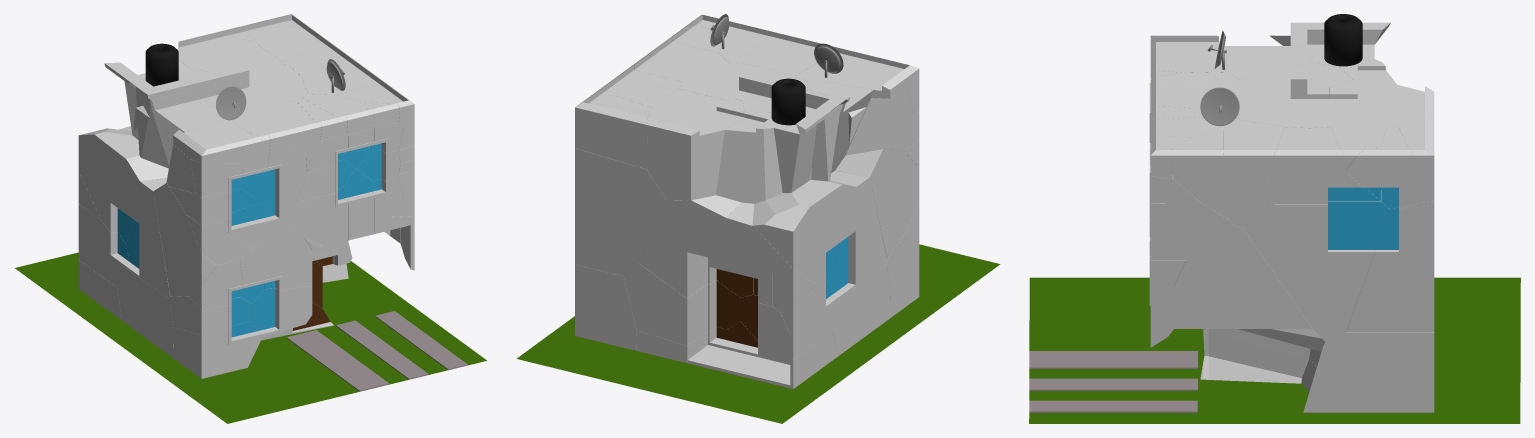
File: casa_2_cracked.glb
The picture shows the model from 3 angles, left to right: view 1: azimuth 30°, elevation 25°; view 2: azimuth 150°, elevation 25°; view 3: azimuth 270°, elevation 25°; orthographic projection. The views are drawn at different scales.
Parts seen in each view (by area): view 1: Terreno_Infonativ_mod_0.001, Casa_Infonavit_mode_1_cell.060, Casa_Infonavit_mode_1_cell.029, Casa_Infonavit_mode_1_cell.083, Casa_Infonavit_mode_1_cell.039, Casa_Infonavit_mode_1_cell.081, Casa_Infonavit_mode_1_cell.097, Casa_Infonavit_mode_1_cell.047, Casa_Infonavit_mode_1_cell.077, Casa_Infonavit_mode_1_cell.038, Casa_Infonavit_mode_1_cell.086, Casa_Infonavit_mode_1_cell.050 (+43 smaller); view 2: Terreno_Infonativ_mod_0.001, Casa_Infonavit_mode_1_cell.069, Casa_Infonavit_mode_1_cell.047, Casa_Infonavit_mode_1_cell.098, Casa_Infonavit_mode_1_cell.060, Casa_Infonavit_mode_1_cell.093, Casa_Infonavit_mode_1_cell.035, Casa_Infonavit_mode_1_cell.029, Casa_Infonavit_mode_1_cell.081, Casa_Infonavit_mode_1_cell.061, Casa_Infonavit_mode_1_cell.057, Casa_Infonavit_mode_1_cell.097 (+34 smaller); view 3: Terreno_Infonativ_mod_0.001, Casa_Infonavit_mode_1_cell.063, Casa_Infonavit_mode_1_cell.061, Casa_Infonavit_mode_1_cell.080, Casa_Infonavit_mode_1_cell.069, Casa_Infonavit_mode_1_cell.095, Casa_Infonavit_mode_1_cell.047, Casa_Infonavit_mode_1_cell.038, Casa_Infonavit_mode_1_cell.044, Casa_Infonavit_mode_1_cell.052, Casa_Infonavit_mode_1_cell.077, Casa_Infonavit_mode_1_cell.033 (+27 smaller).
Part boxes in pixels (box(x1,y1,x2,y2)): Terreno_Infonativ_mod_0.001: box(15, 252, 486, 423); Casa_Infonavit_mode_1_cell.060: box(78, 128, 168, 243); Casa_Infonavit_mode_1_cell.029: box(153, 183, 216, 296); Casa_Infonavit_mode_1_cell.083: box(173, 321, 262, 378); Casa_Infonavit_mode_1_cell.039: box(231, 111, 306, 220); Casa_Infonavit_mode_1_cell.081: box(122, 178, 170, 299); Casa_Infonavit_mode_1_cell.097: box(117, 265, 173, 358); Casa_Infonavit_mode_1_cell.047: box(178, 30, 282, 72); Casa_Infonavit_mode_1_cell.077: box(173, 119, 262, 163); Casa_Infonavit_mode_1_cell.038: box(219, 63, 308, 111); Casa_Infonavit_mode_1_cell.086: box(283, 188, 348, 246); Casa_Infonavit_mode_1_cell.050: box(78, 204, 128, 287); Terreno_Infonativ_mod_0.001: box(516, 244, 1000, 423); Casa_Infonavit_mode_1_cell.069: box(575, 148, 665, 276); Casa_Infonavit_mode_1_cell.047: box(647, 88, 744, 200); Casa_Infonavit_mode_1_cell.098: box(639, 195, 753, 298); Casa_Infonavit_mode_1_cell.060: box(752, 180, 856, 284); Casa_Infonavit_mode_1_cell.093: box(624, 263, 740, 345); Casa_Infonavit_mode_1_cell.035: box(716, 112, 782, 203); Casa_Infonavit_mode_1_cell.029: box(835, 148, 919, 258); Casa_Infonavit_mode_1_cell.081: box(827, 170, 886, 298); Casa_Infonavit_mode_1_cell.061: box(575, 264, 636, 350); Casa_Infonavit_mode_1_cell.057: box(575, 98, 649, 169); Casa_Infonavit_mode_1_cell.097: box(832, 264, 890, 356); Terreno_Infonativ_mod_0.001: box(1029, 277, 1520, 423); Casa_Infonavit_mode_1_cell.063: box(1243, 190, 1389, 341); Casa_Infonavit_mode_1_cell.061: box(1303, 332, 1434, 412); Casa_Infonavit_mode_1_cell.080: box(1174, 226, 1312, 328); Casa_Infonavit_mode_1_cell.069: box(1346, 201, 1434, 332); Casa_Infonavit_mode_1_cell.095: box(1223, 120, 1284, 228); Casa_Infonavit_mode_1_cell.047: box(1328, 80, 1434, 127); Casa_Infonavit_mode_1_cell.038: box(1233, 64, 1329, 128); Casa_Infonavit_mode_1_cell.044: box(1172, 131, 1229, 219); Casa_Infonavit_mode_1_cell.052: box(1208, 329, 1310, 378); Casa_Infonavit_mode_1_cell.077: box(1150, 35, 1228, 72); Casa_Infonavit_mode_1_cell.033: box(1381, 126, 1420, 209).
Bounding box in the file's own units: 5.39 × 5.14 × 7.66.
